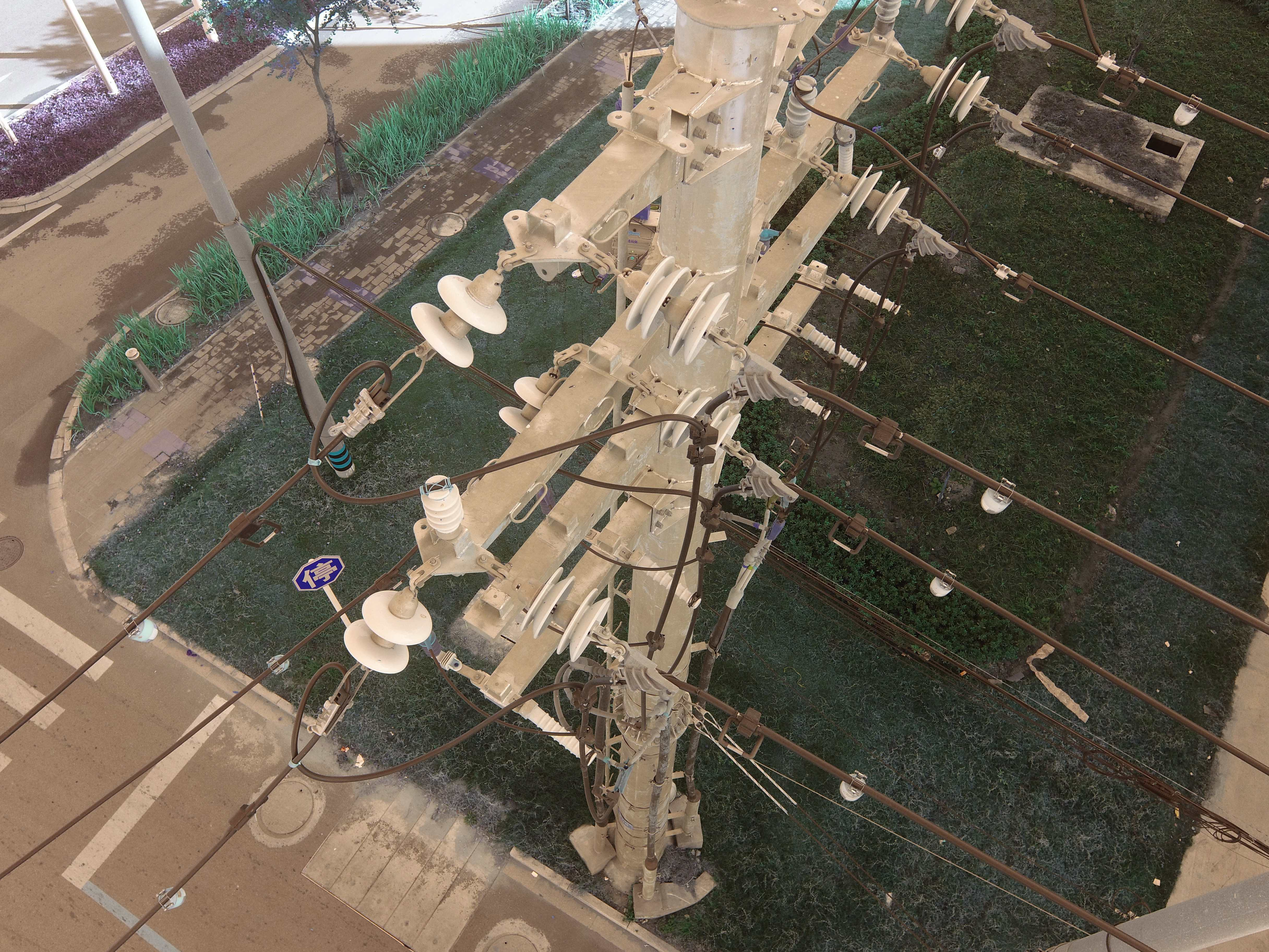severe_soiling_no_discharge_whole: (871, 1, 905, 35)
